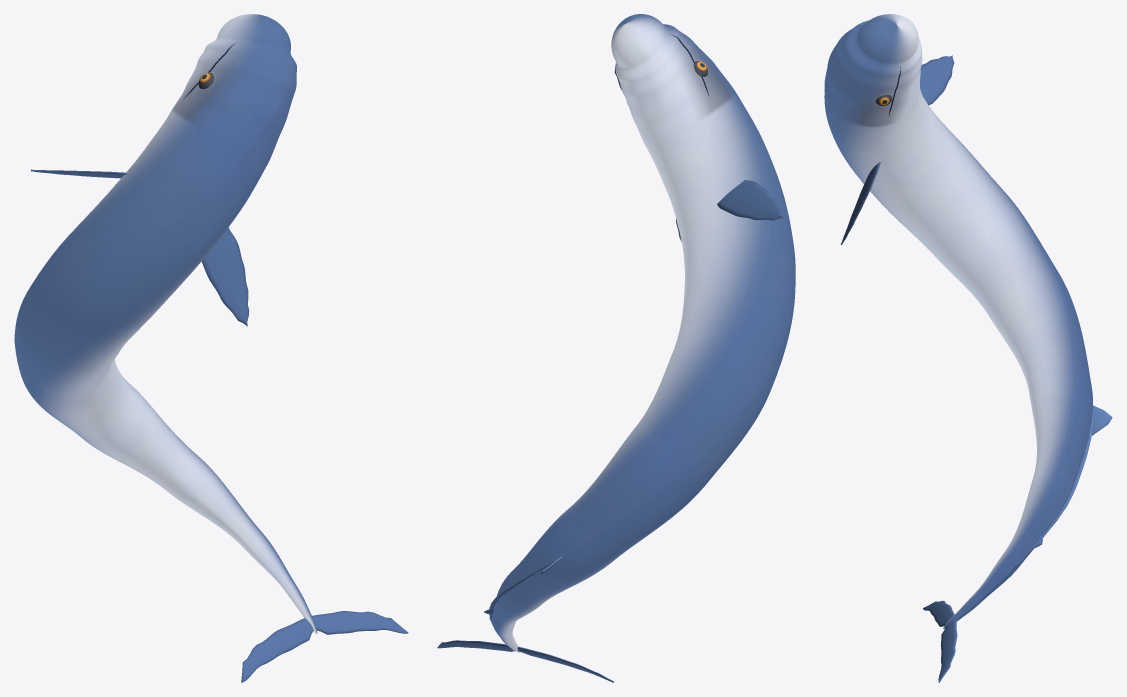
Rendered from sorakujira.glb.
The picture shows the model from 3 angles, left to right: view 1: azimuth 30°, elevation 25°; view 2: azimuth 150°, elevation 25°; view 3: azimuth 270°, elevation 25°; orthographic projection. The views are drawn at different scales.
Parts seen in each view (by area): view 1: WhaleBody, TailFlukes, PecFinR; view 2: WhaleBody, PecFinL, TailFlukes; view 3: WhaleBody, TailFlukes, PecFinL, DorsalRidge, PecFinR.
Part boxes in pixels (x1=…): WhaleBody: x1=14, y1=14, x2=317, y2=633; TailFlukes: x1=241, y1=611, x2=408, y2=682; PecFinR: x1=201, y1=227, x2=249, y2=326; WhaleBody: x1=491, y1=14, x2=795, y2=652; PecFinL: x1=717, y1=180, x2=782, y2=220; TailFlukes: x1=437, y1=640, x2=613, y2=682; WhaleBody: x1=824, y1=14, x2=1092, y2=628; TailFlukes: x1=923, y1=600, x2=957, y2=682; PecFinL: x1=920, y1=55, x2=954, y2=105; DorsalRidge: x1=1012, y1=407, x2=1093, y2=569; PecFinR: x1=840, y1=162, x2=880, y2=244.
Bounding box in the file's own units: 36.9 × 65.16 × 28.88.
Materials: 10 (2 with a texture image).
